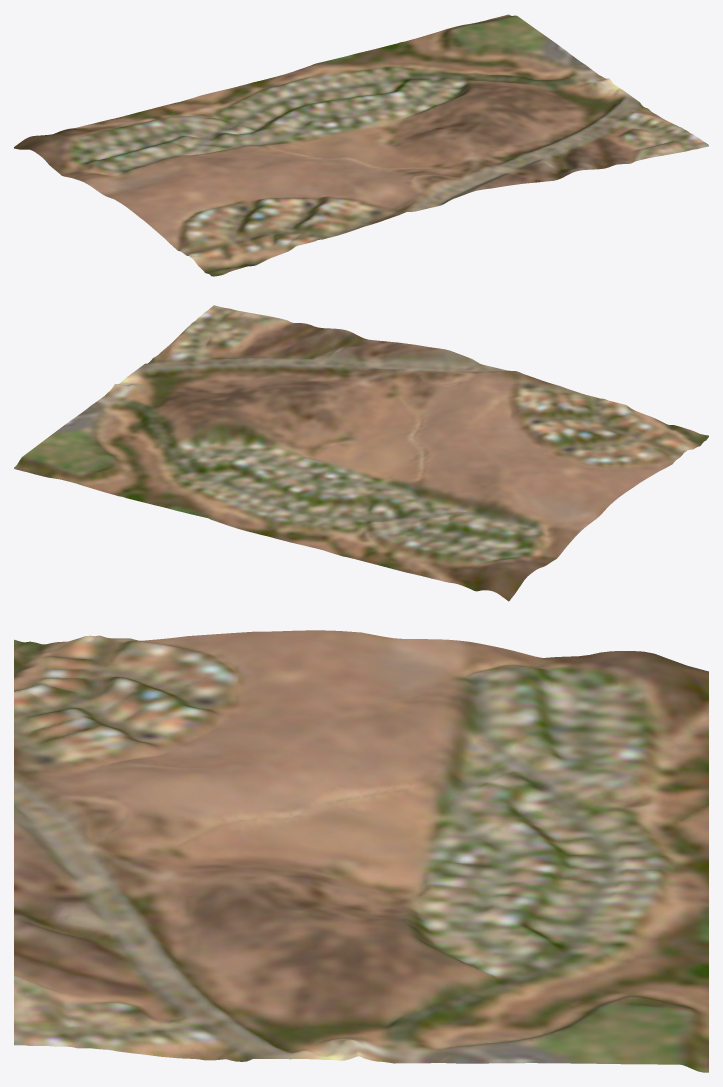
Rendered from terrain_r6_c4.glb.
3 renders of one model, top to bottom at view 1: azimuth 30°, elevation 25°; view 2: azimuth 150°, elevation 25°; view 3: azimuth 270°, elevation 25°, orthographic. The views are drawn at different scales.
Parts seen in each view (by area): view 1: terrain_r6_c4_lod0; view 2: terrain_r6_c4_lod0; view 3: terrain_r6_c4_lod0.
Boxes of the visible parts, x1,y1,x2,y2 form: terrain_r6_c4_lod0: (14,14,708,276); terrain_r6_c4_lod0: (14,305,708,601); terrain_r6_c4_lod0: (14,630,708,1072).
Bounding box in the file's own units: 1125 × 90.3 × 787.
1 material, 1 textured.
